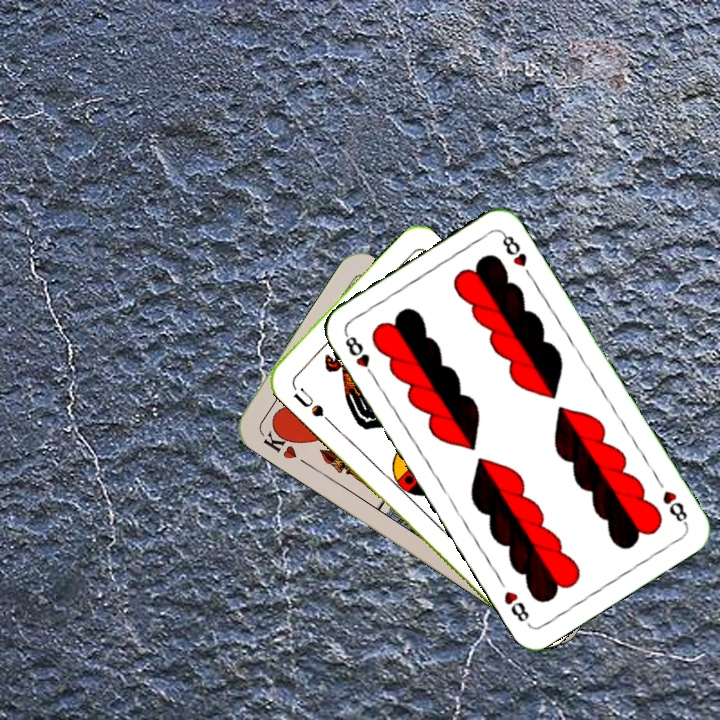H8: (340, 329, 379, 382), (658, 486, 690, 528)
HK: (257, 421, 301, 462)
SU: (290, 383, 334, 426)
